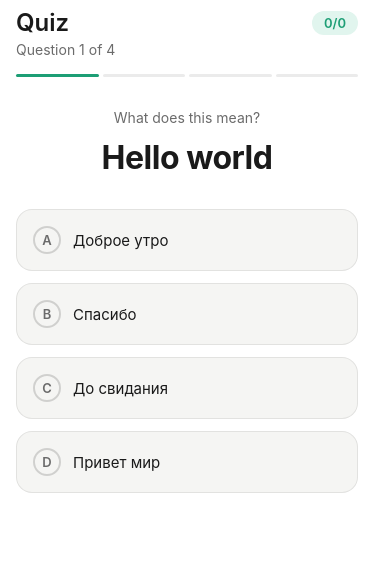
QuizScreen — answering › shows Next question button after selecting an answer
Click the text "Привет мир": (117, 462) [73,452,160,472]
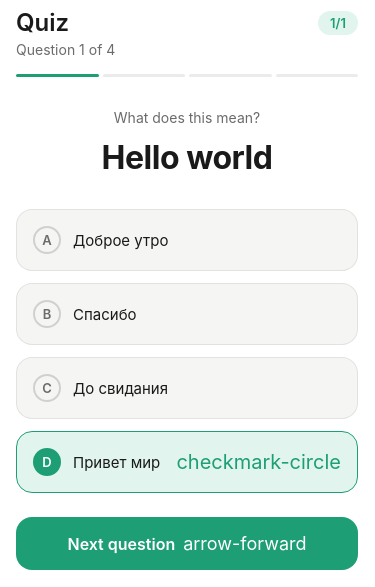
Check: the text "Next question" is shown, box [68,534,175,554]
